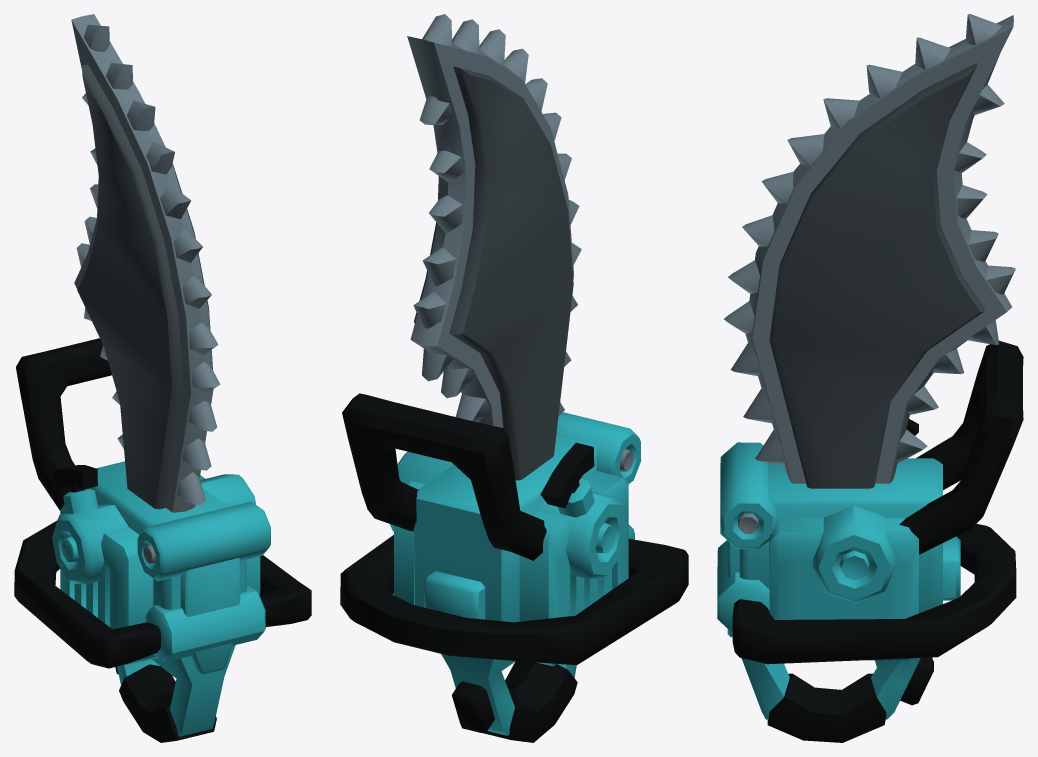
File: chainsword_teal.obj
3 views of the same model, side by side, from view 1: azimuth 30°, elevation 25°; view 2: azimuth 150°, elevation 25°; view 3: azimuth 270°, elevation 25° (orthographic). The views are drawn at different scales.
Parts seen in each view (by area): view 1: chainsword_teal_Cube.8646; view 2: chainsword_teal_Cube.8646; view 3: chainsword_teal_Cube.8646.
Part boxes in pixels (box(x1,y1,x2,y2)): chainsword_teal_Cube.8646: box(14, 14, 311, 742); chainsword_teal_Cube.8646: box(340, 14, 688, 742); chainsword_teal_Cube.8646: box(717, 14, 1023, 742).
Size of the model in its own units: 0.517 by 1.5 by 0.5804.
